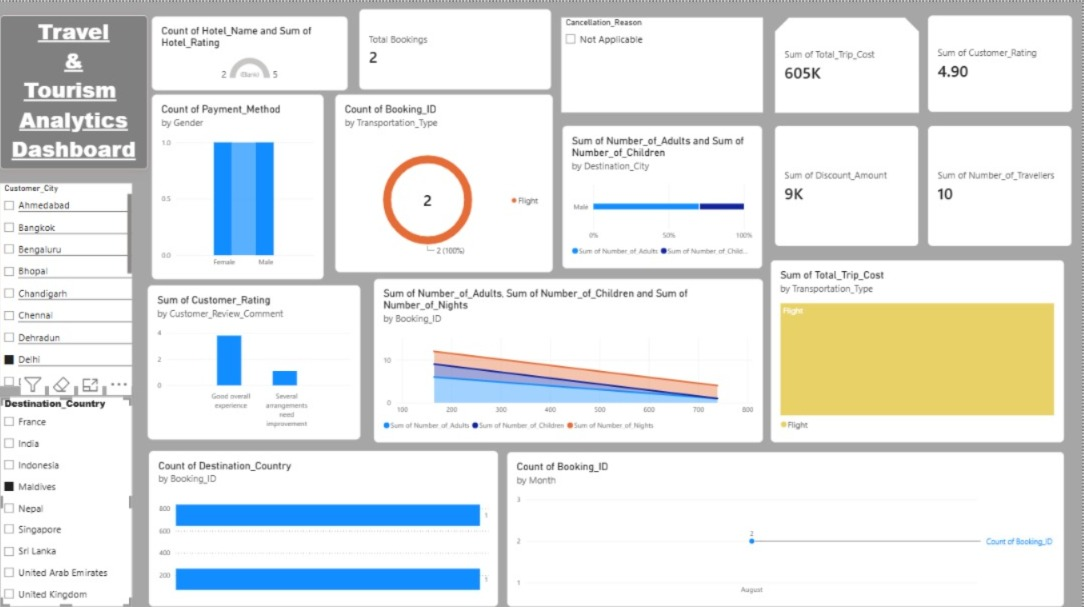

Layout of this report page (visuals, bound fields, positions):
{"tool":"powerbi","page":{"name":"Page 1","canvas":[1920,1080],"ordinal":0},"visuals":[{"type":"clusteredBarChart","fields":{"Y":["CountNonNull(Travel And Tourism (1).Destination_Country)"],"Category":["Travel And Tourism (1).Booking_ID"]},"box":[276.7,790.9,615.4,274.6],"z":0},{"type":"donutChart","fields":{"Category":["Travel And Tourism (1).Transportation_Type"],"Y":["CountNonNull(Travel And Tourism (1).Booking_ID)"]},"box":[605.1,162.6,382.8,312.9],"z":1000},{"type":"lineChart","fields":{"Y":["CountNonNull(Travel And Tourism (1).Booking_ID)"],"Category":["Travel And Tourism (1).Booking_Date.Variation.Date Hierarchy.Month"]},"box":[908.6,792.9,980.9,272.6],"z":2000},{"type":"cardVisual","fields":{"Data":["Sum(Travel And Tourism (1).Number_of_Travellers)"]},"box":[1648.7,218.2,253.2,212],"z":3000},{"type":"textbox","box":[14.7,23.8,260.5,271.5],"z":4000},{"type":"cardVisual","fields":{"Data":["Sum(Travel And Tourism (1).Total_Trip_Cost)"]},"box":[1379.1,26.8,254,168],"z":5000},{"type":"slicer","fields":{"Values":["Travel And Tourism (1).Destination_Country"]},"box":[14.5,695.9,233.3,369.6],"z":6000},{"type":"cardVisual","fields":{"Data":["Travel And Tourism (1).Total Bookings"]},"box":[648.4,12.4,338.7,142.5],"z":7000},{"type":"cardVisual","fields":{"Data":["Sum(Travel And Tourism (1).Customer_Rating)"]},"box":[1648.7,24.7,254,170],"z":8000},{"type":"cardVisual","fields":{"Data":["Sum(Travel And Tourism (1).Discount_Amount)"]},"box":[1379.1,218.2,253.2,212],"z":9000},{"type":"columnChart","fields":{"Y":["CountNonNull(Travel And Tourism (1).Payment_Method)"],"Category":["Travel And Tourism (1).Gender"]},"box":[282,162.6,302.6,325.2],"z":10000},{"type":"hundredPercentStackedBarChart","fields":{"Category":["Travel And Tourism (1).Destination_City"],"Y":["Sum(Travel And Tourism (1).Number_of_Adults)","Sum(Travel And Tourism (1).Number_of_Children)"]},"box":[1004.5,218.2,352,251.1],"z":11000},{"type":"stackedAreaChart","fields":{"Y":["Sum(Travel And Tourism (1).Number_of_Adults)","Sum(Travel And Tourism (1).Number_of_Children)","Sum(Travel And Tourism (1).Number_of_Nights)"],"Category":["Travel And Tourism (1).Booking_ID"]},"box":[673.1,487.8,685.4,288.2],"z":12000},{"type":"treemap","fields":{"Details":["Travel And Tourism (1).Transportation_Type"],"Values":["Sum(Travel And Tourism (1).Total_Trip_Cost)"]},"box":[1372.9,454.9,516.6,321.1],"z":13000},{"type":"slicer","fields":{"Values":["Travel And Tourism (1).Customer_City"]},"box":[14.7,319.2,232.9,357.7],"z":14000},{"type":"lineStackedColumnComboChart","fields":{"Category":["Travel And Tourism (1).Customer_Review_Comment"],"Y":["Sum(Travel And Tourism (1).Customer_Rating)"]},"box":[275.1,498.9,374.6,271.7],"z":15000},{"type":"gauge","fields":{"MaxValue":["Sum(Travel And Tourism (1).Hotel_Rating)"],"MinValue":["CountNonNull(Travel And Tourism (1).Hotel_Name)"]},"box":[282.9,24.8,344.8,130.1],"z":16000},{"type":"slicer","fields":{"Values":["Travel And Tourism (1).Cancellation_Reason"]},"box":[1003.6,26.8,355.2,167.3],"z":16001}]}

Visuals, with their boxes in screenshot pixels (x1, y1, x2, y2), scaled from the page's 1920x1080 canvas onto the 1084x607 screenshot:
clusteredBarChart - CountNonNull(Travel And Tourism (1).Destination_Country) x Travel And Tourism (1).Booking_ID: x1=156 y1=445 x2=504 y2=599
donutChart - Travel And Tourism (1).Transportation_Type x CountNonNull(Travel And Tourism (1).Booking_ID): x1=342 y1=91 x2=558 y2=267
lineChart - CountNonNull(Travel And Tourism (1).Booking_ID) x Travel And Tourism (1).Booking_Date.Variation.Date Hierarchy.Month: x1=513 y1=446 x2=1067 y2=599
cardVisual - Sum(Travel And Tourism (1).Number_of_Travellers): x1=931 y1=123 x2=1074 y2=242
textbox: x1=8 y1=13 x2=155 y2=166
cardVisual - Sum(Travel And Tourism (1).Total_Trip_Cost): x1=779 y1=15 x2=922 y2=109
slicer - Travel And Tourism (1).Destination_Country: x1=8 y1=391 x2=140 y2=599
cardVisual - Travel And Tourism (1).Total Bookings: x1=366 y1=7 x2=557 y2=87
cardVisual - Sum(Travel And Tourism (1).Customer_Rating): x1=931 y1=14 x2=1074 y2=109
cardVisual - Sum(Travel And Tourism (1).Discount_Amount): x1=779 y1=123 x2=922 y2=242
columnChart - CountNonNull(Travel And Tourism (1).Payment_Method) x Travel And Tourism (1).Gender: x1=159 y1=91 x2=330 y2=274
hundredPercentStackedBarChart - Travel And Tourism (1).Destination_City x Sum(Travel And Tourism (1).Number_of_Adults): x1=567 y1=123 x2=766 y2=264
stackedAreaChart - Sum(Travel And Tourism (1).Number_of_Adults) x Sum(Travel And Tourism (1).Number_of_Children): x1=380 y1=274 x2=767 y2=436
treemap - Travel And Tourism (1).Transportation_Type x Sum(Travel And Tourism (1).Total_Trip_Cost): x1=775 y1=256 x2=1067 y2=436
slicer - Travel And Tourism (1).Customer_City: x1=8 y1=179 x2=140 y2=380
lineStackedColumnComboChart - Travel And Tourism (1).Customer_Review_Comment x Sum(Travel And Tourism (1).Customer_Rating): x1=155 y1=280 x2=367 y2=433
gauge - Sum(Travel And Tourism (1).Hotel_Rating) x CountNonNull(Travel And Tourism (1).Hotel_Name): x1=160 y1=14 x2=354 y2=87
slicer - Travel And Tourism (1).Cancellation_Reason: x1=567 y1=15 x2=767 y2=109
